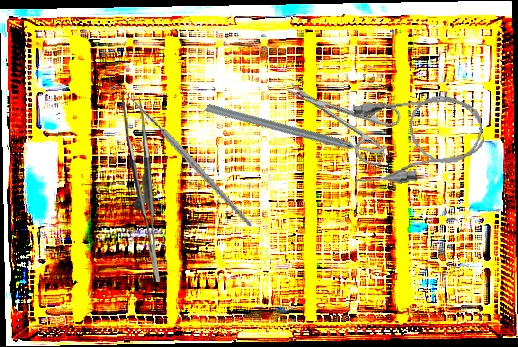Cannula: (344, 87, 489, 190)
Chopper: (204, 42, 389, 214)
Hook Surgical: (108, 60, 253, 253)
Iris Scissors: (275, 57, 408, 170)
Tissue Forceps: (122, 96, 160, 282)
